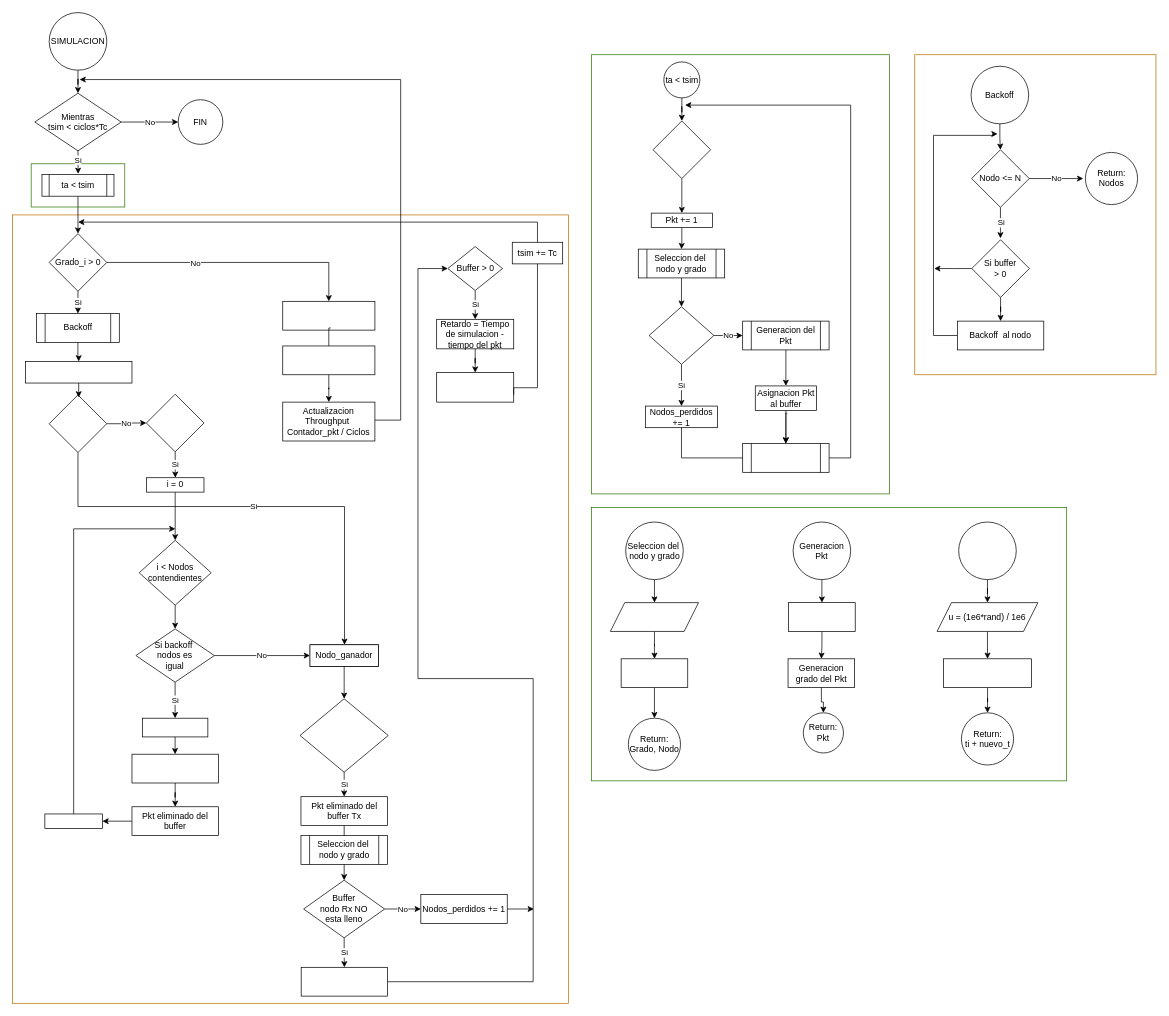
This 1169x1016 diagram has some shape labels left out. The centre of each missing label's shape, as x and y in pixels:
Actualizacion contador pkt perdidos: pixel 328 360
Actualizacion retardos Append retardos: pixel 328 315
Buffer esta lleno: pixel 681 335
Colision: pixel 175 727
Generacion del Tiempo de creacion del Pkt: pixel 821 616
Generacion random: pixel 654 673
Grado = [1, I + 1] Nodo = [1, N]: pixel 654 616
i += 1: pixel 73 820
Limpieza buffer: pixel 475 387
Mientras ta < tsim: pixel 681 149
Nodo contendiente == 1: pixel 77 423
Nodo contendiente > 1: pixel 175 422
Nodo_ganador != 0 && buffer > 0: pixel 343 735
Nodos_perdidos += 2: pixel 174 768
Nuevo tiempo de arribo: pixel 987 550
Nuevo tiempo de arribo ta: pixel 785 457
Nuevo_t = - (1 / lambda)*log(1-u): pixel 987 673
Ordenamiento de nodos por el mas pequeño: pixel 78 372
Pkt asignado al Buffer nodo Rx: pixel 344 981
